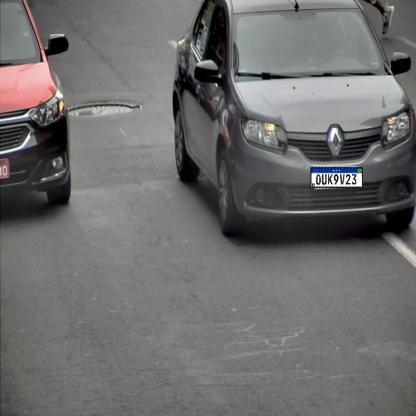PlacaM: (310, 167, 363, 188)
